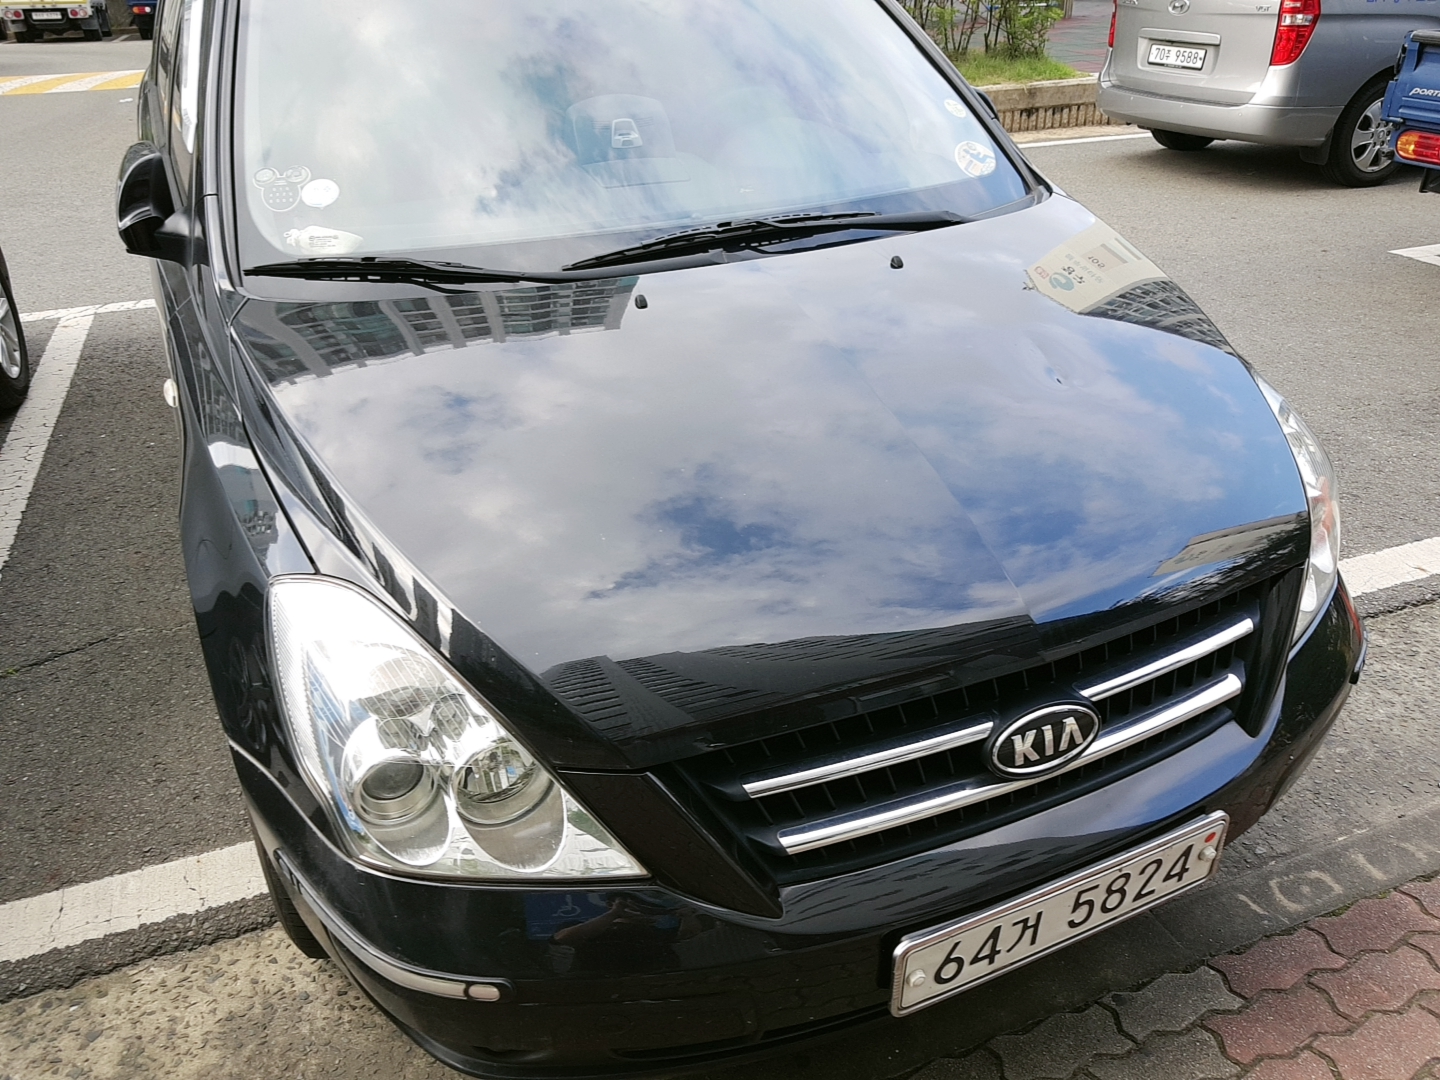disabled_parking: (952, 137, 996, 179)
etc: (253, 167, 310, 216), (302, 175, 349, 209), (941, 92, 971, 124)
